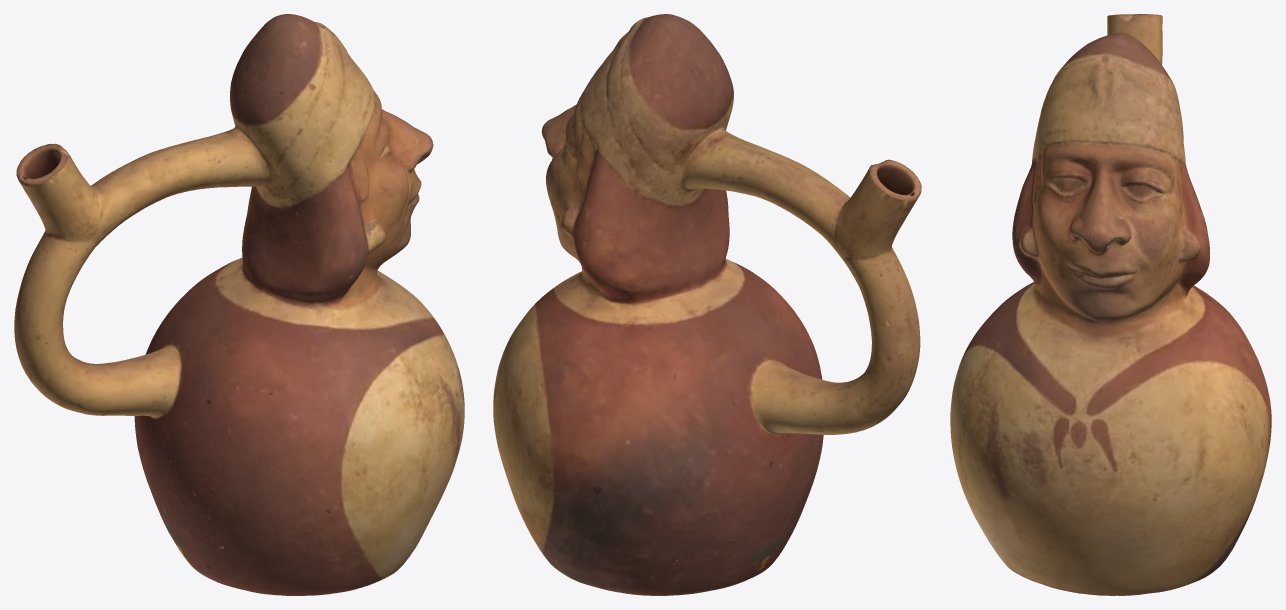
Rendered from preview.glb.
The picture shows the model from 3 angles, left to right: view 1: azimuth 30°, elevation 25°; view 2: azimuth 150°, elevation 25°; view 3: azimuth 270°, elevation 25°; orthographic projection. The views are drawn at different scales.
Parts seen in each view (by area): view 1: Object_2; view 2: Object_2; view 3: Object_2.
Part boxes in pixels (left/top/right/bottom): Object_2: left=14, top=14, right=464, bottom=595; Object_2: left=493, top=14, right=921, bottom=595; Object_2: left=950, top=14, right=1271, bottom=595.
Size of the model in its own units: 17.78 by 22.05 by 12.48.
1 material, 1 textured.
